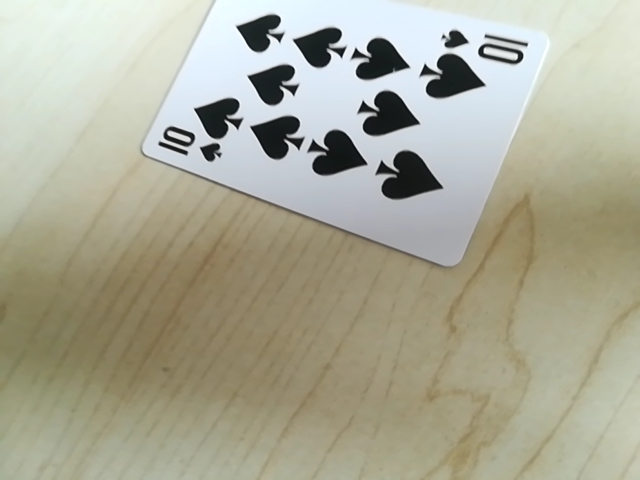ht 10: (436, 22, 541, 65), (152, 129, 227, 168)
